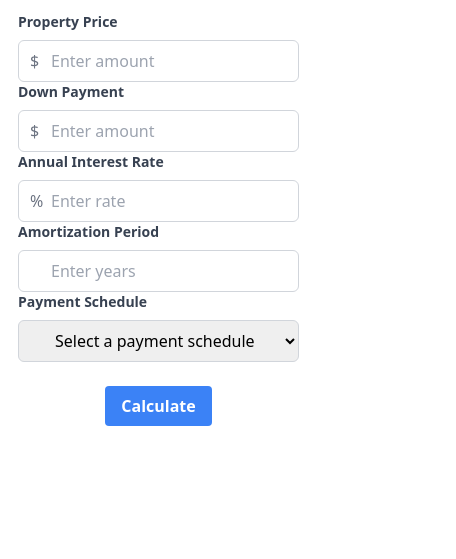
it: MortgageForm › displays error message for invalid property price
The width and height of the screenshot is (456, 559).
In the number field with test id "propertyPrice": (158, 61) [18,40,299,82], type "-100"
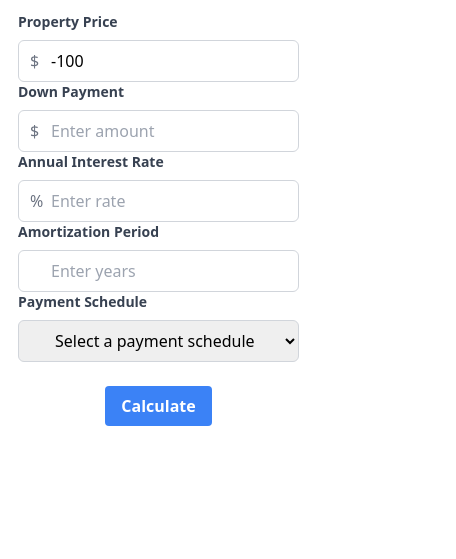
Click the button "Calculate": (158, 406) [105,386,212,426]
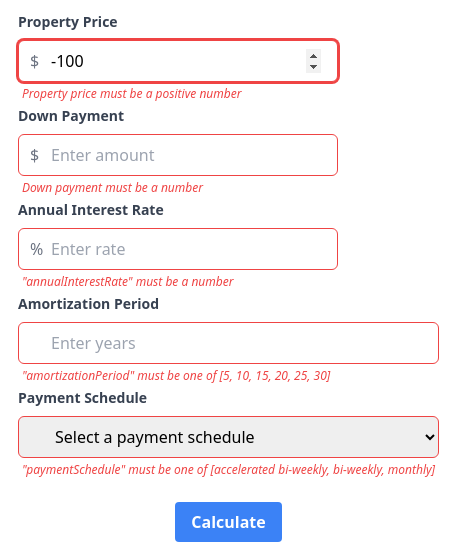
Now the text "Property price must be a positive number" is shown, box [22,85,242,102]
